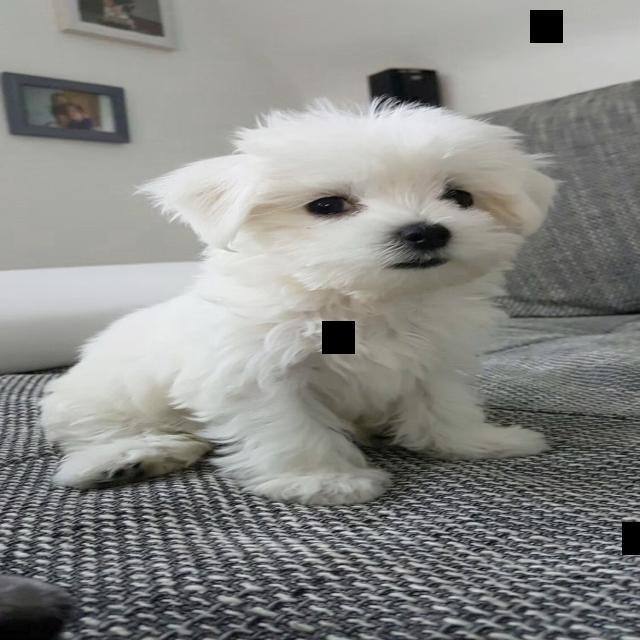puppy-dog: (37, 98, 570, 506)
